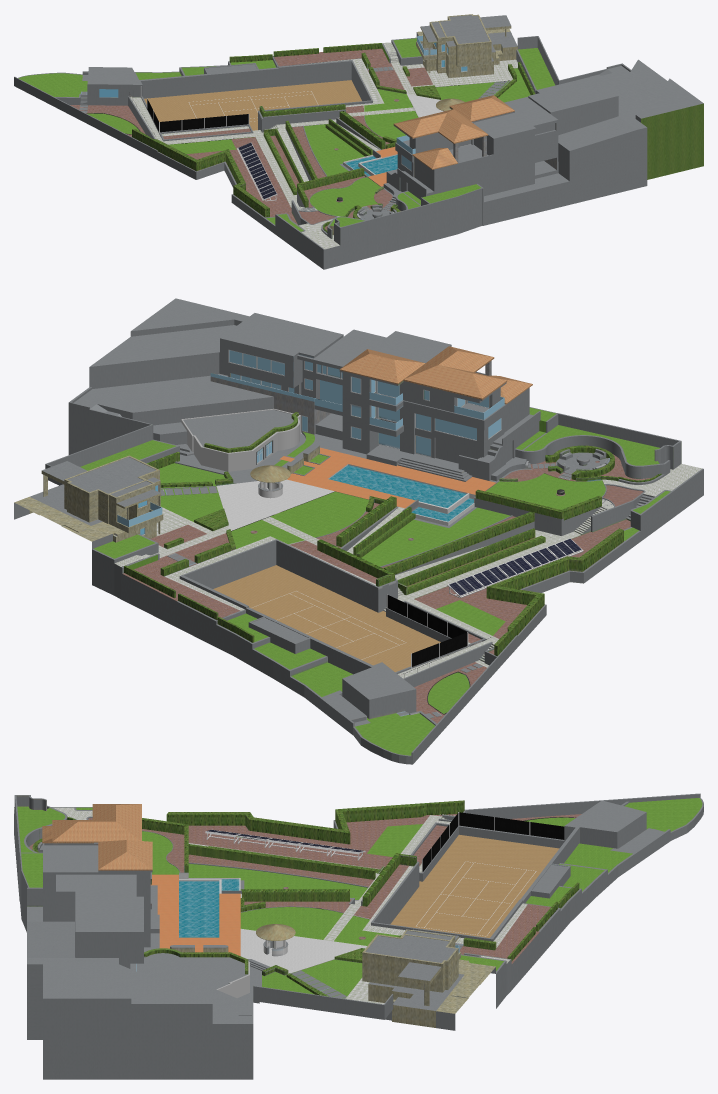
Rendered from Garden_model_v01.fbx.
3 views of the same model, one above another, from view 1: azimuth 30°, elevation 25°; view 2: azimuth 150°, elevation 25°; view 3: azimuth 270°, elevation 25° (orthographic). The views are drawn at different scales.
Visible parts, largest first — view 1: Garden_Location; view 2: Garden_Location; view 3: Garden_Location.
Boxes of the visible parts, x1,y1,x2,y2 form: Garden_Location: (14, 14, 703, 269); Garden_Location: (14, 298, 703, 764); Garden_Location: (14, 793, 703, 1079).
Bounding box in the file's own units: 9529 × 1848 × 10130.
